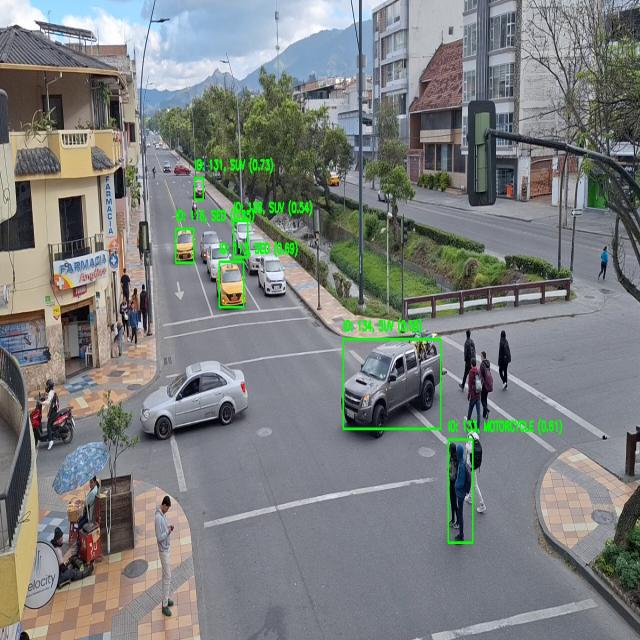CMT: (344, 333, 441, 436)
MOTORCYCLE: (52, 409, 75, 441), (30, 402, 48, 442), (380, 393, 382, 398)
SED: (140, 360, 248, 440), (258, 253, 286, 296)
